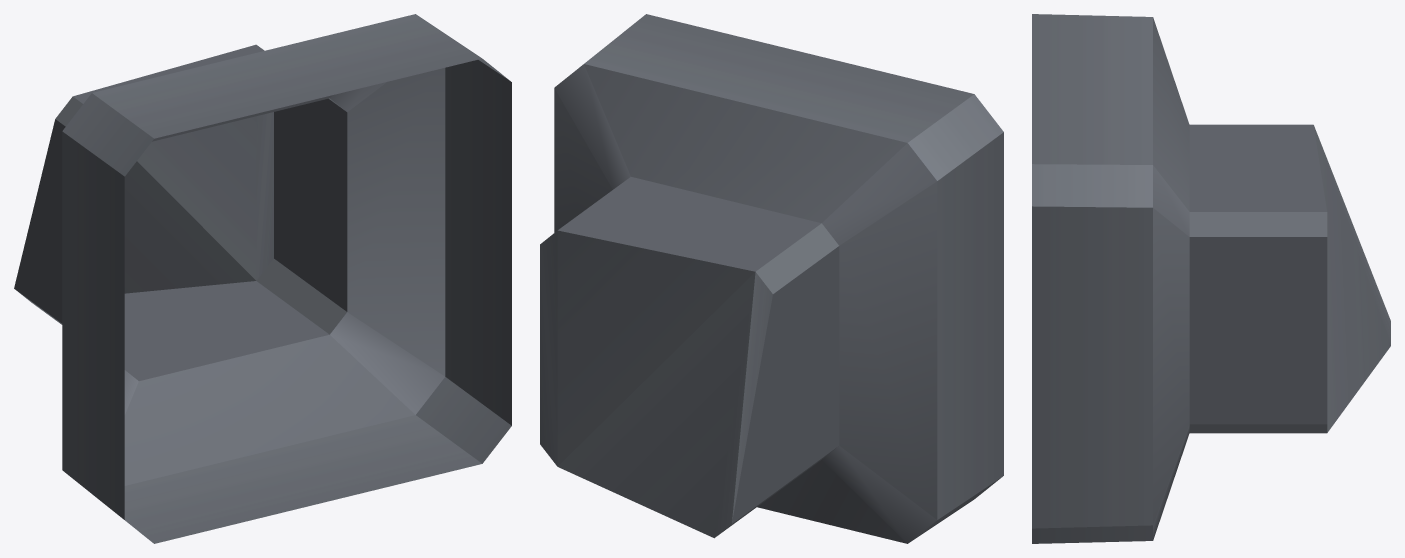
The model's file is Edge Pillar Corner 03.FBX.
The picture shows the model from 3 angles, left to right: view 1: azimuth 30°, elevation 25°; view 2: azimuth 150°, elevation 25°; view 3: azimuth 270°, elevation 25°; orthographic projection. The views are drawn at different scales.
Visible parts, largest first — view 1: Edge Pillar Corner 03; view 2: Edge Pillar Corner 03; view 3: Edge Pillar Corner 03.
Part boxes in pixels (box(x1,y1,x2,y2)): Edge Pillar Corner 03: box(14, 14, 511, 543); Edge Pillar Corner 03: box(540, 14, 1003, 543); Edge Pillar Corner 03: box(1032, 14, 1390, 543).
Bounding box in the file's own units: 60.45 × 60.47 × 51.79.
